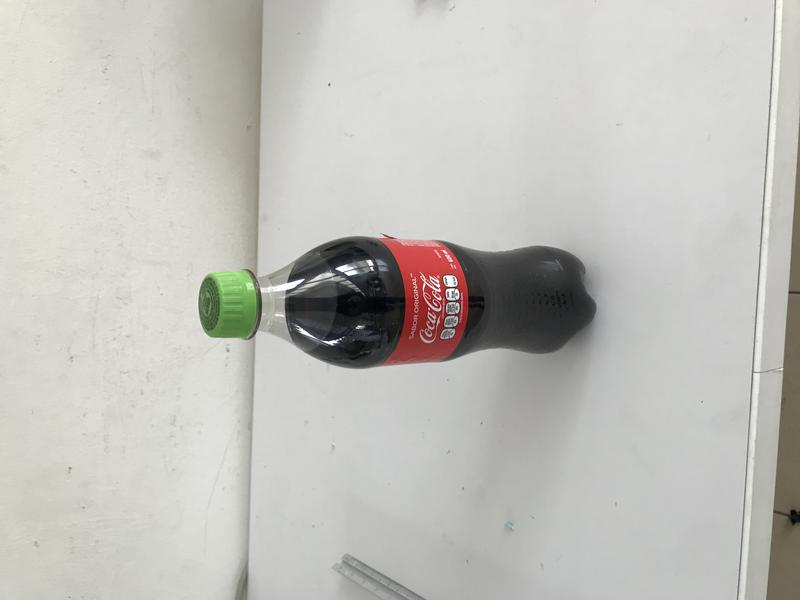coca_cola: (198, 236, 599, 370)
